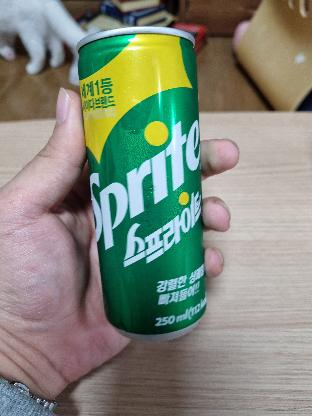Can: (72, 23, 218, 342)
